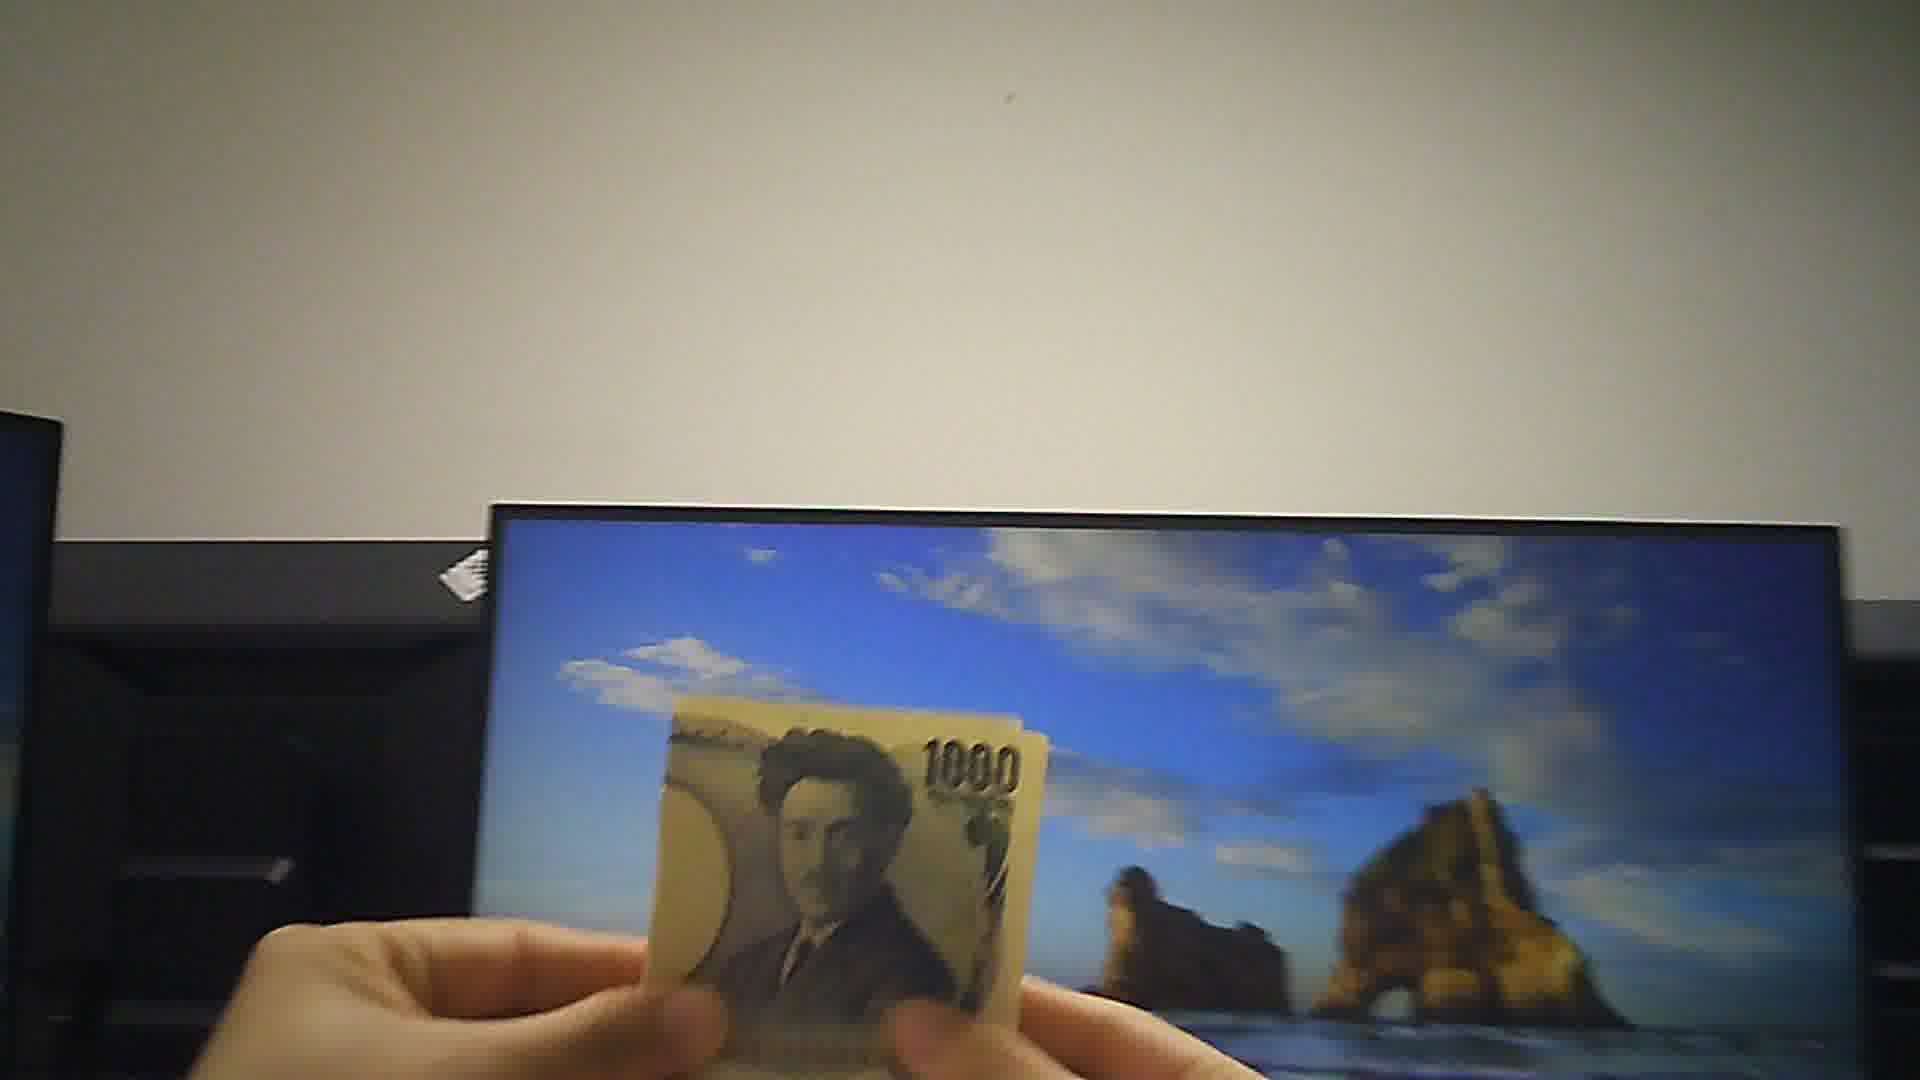1,000 Yen: (649, 673, 1059, 1073)
